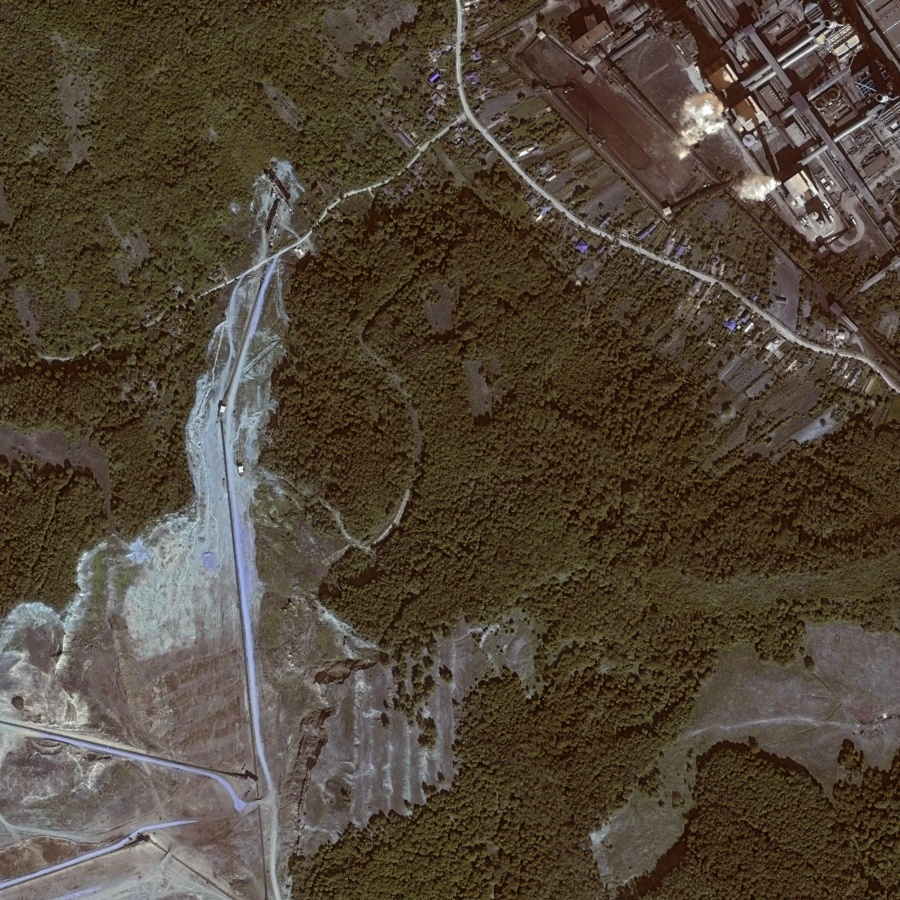PowerPlant: (564, 1, 779, 230)
